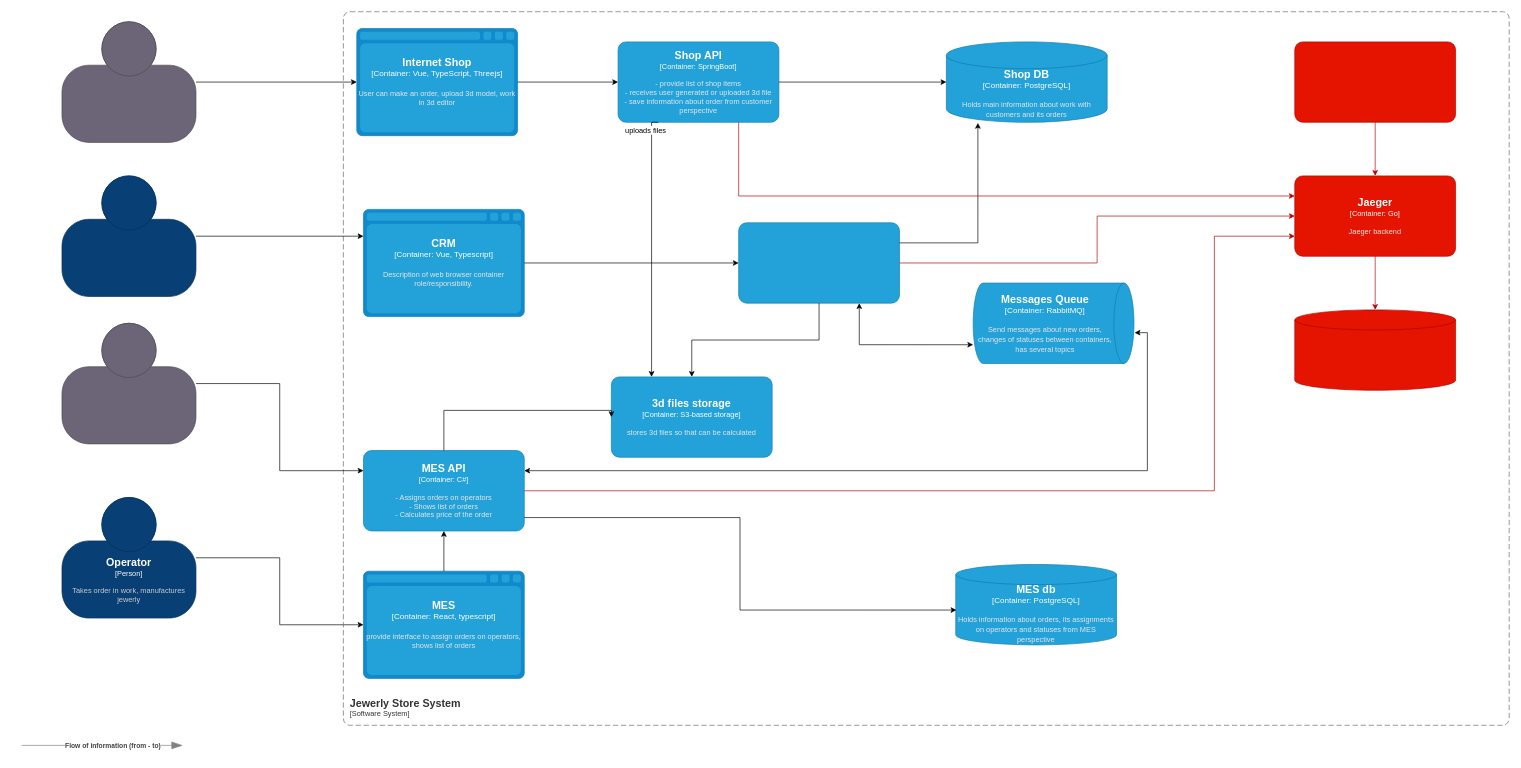
This 1521x768 diagram has some shape labels left out. The shapes that lost their labels are listed below. From the top down, each one's box as (x1, y1, x2, y2) in pixels, then its label:
(61, 21, 196, 142): Customer [Person] Description of external person.
(1294, 41, 1456, 122): Jaeger UI [Container: React] Jaeger UI
(61, 175, 196, 296): Seller [Person] Operates with order, confirms manufacturing for the user
(738, 222, 899, 303): CRM API [Container: SpringBoot] Description of container role/responsibility.
(1294, 309, 1456, 390): Traces db [Container: Elasticsearch] Holds traces from Jaeger
(61, 323, 196, 444): API user [Person] Description of external person.
